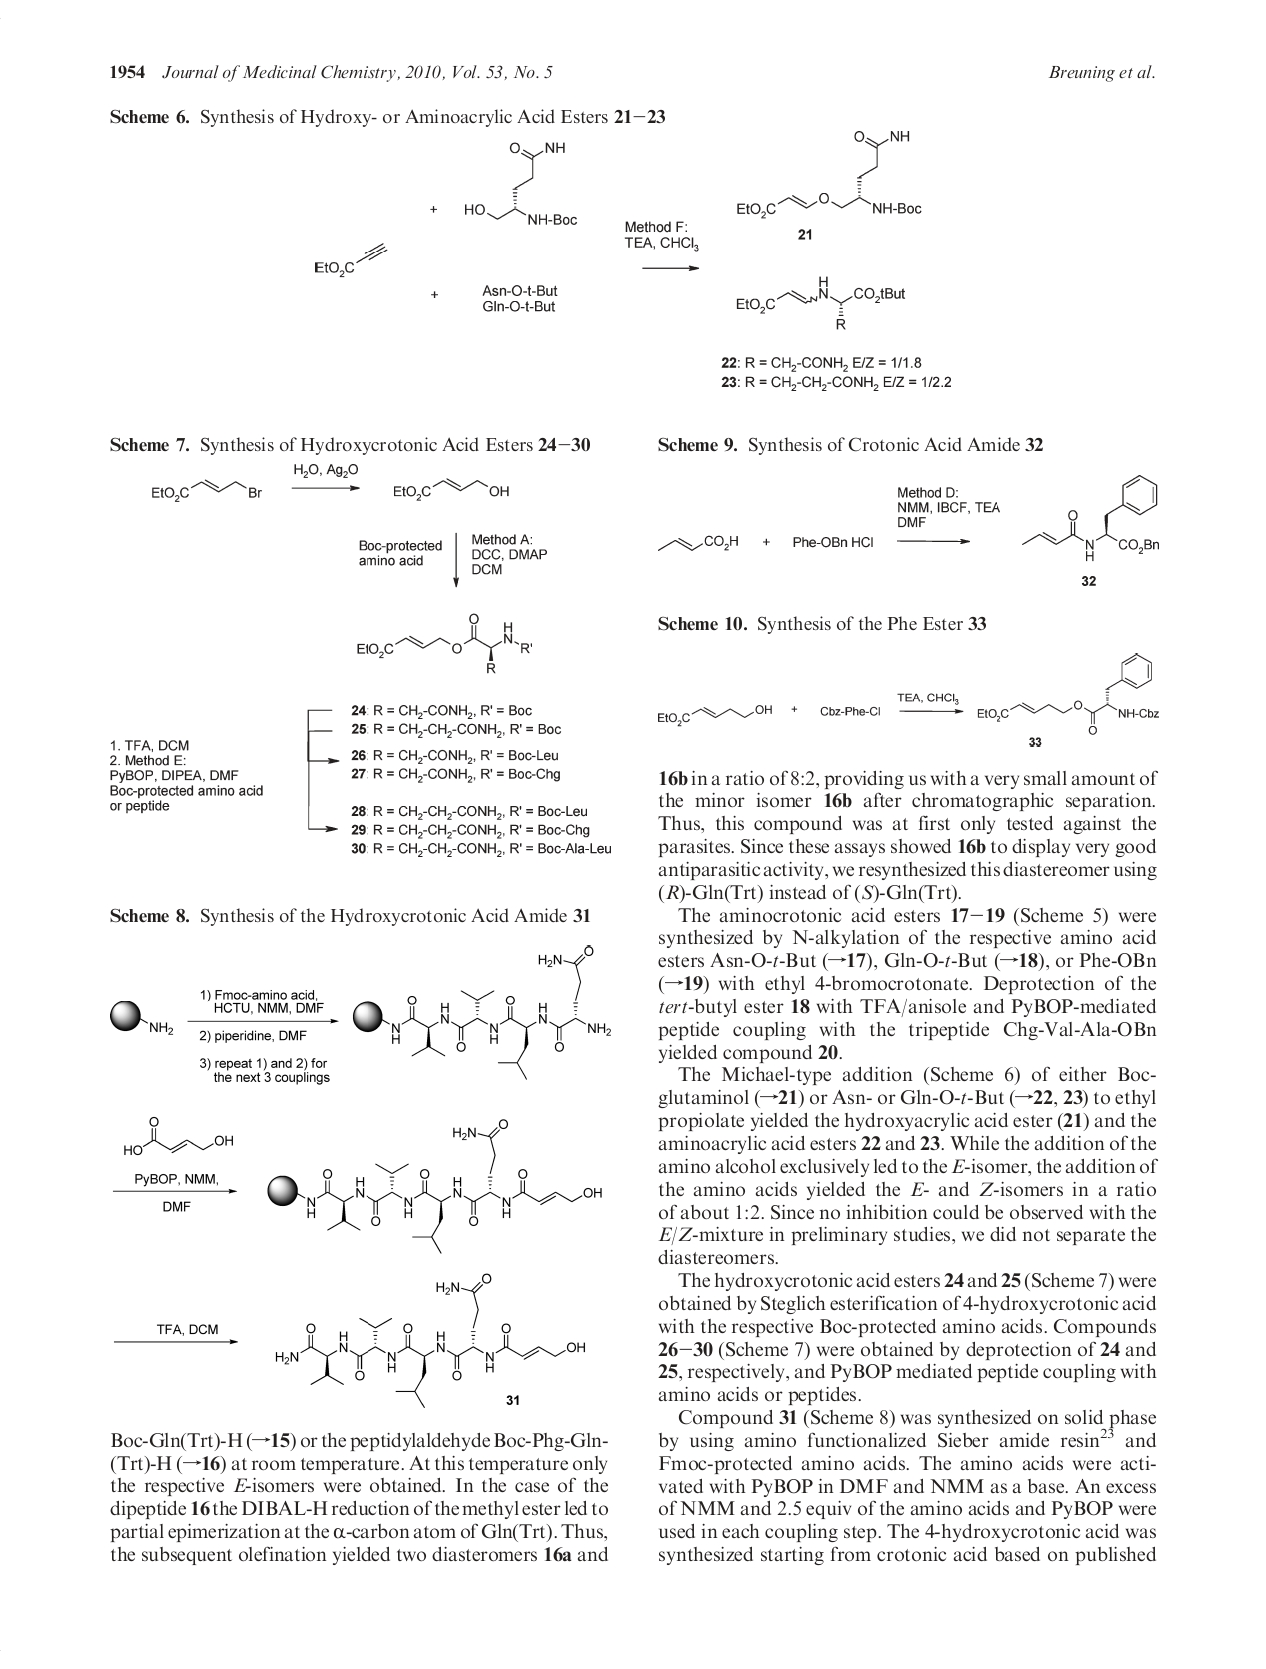exist_molecular: (267, 1117, 602, 1254), (273, 1271, 588, 1408), (352, 942, 613, 1084), (733, 126, 923, 221), (975, 652, 1161, 737), (1023, 472, 1162, 563), (355, 612, 535, 676), (461, 140, 580, 229), (733, 274, 904, 334), (656, 700, 775, 729), (150, 475, 266, 504), (391, 475, 512, 501), (313, 239, 392, 279), (656, 531, 741, 556)
